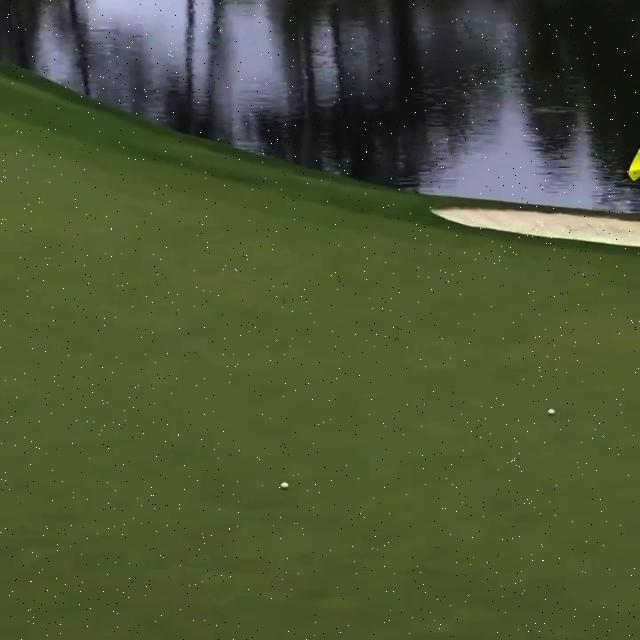golf ball: (279, 482, 290, 490), (546, 408, 556, 415)
